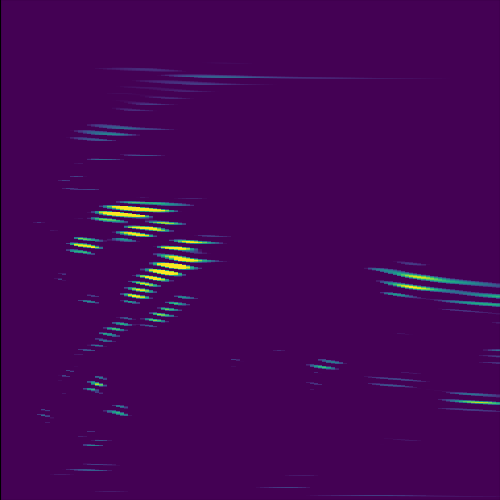semblance: (129, 236, 222, 288), (86, 199, 188, 224), (107, 218, 188, 244)
